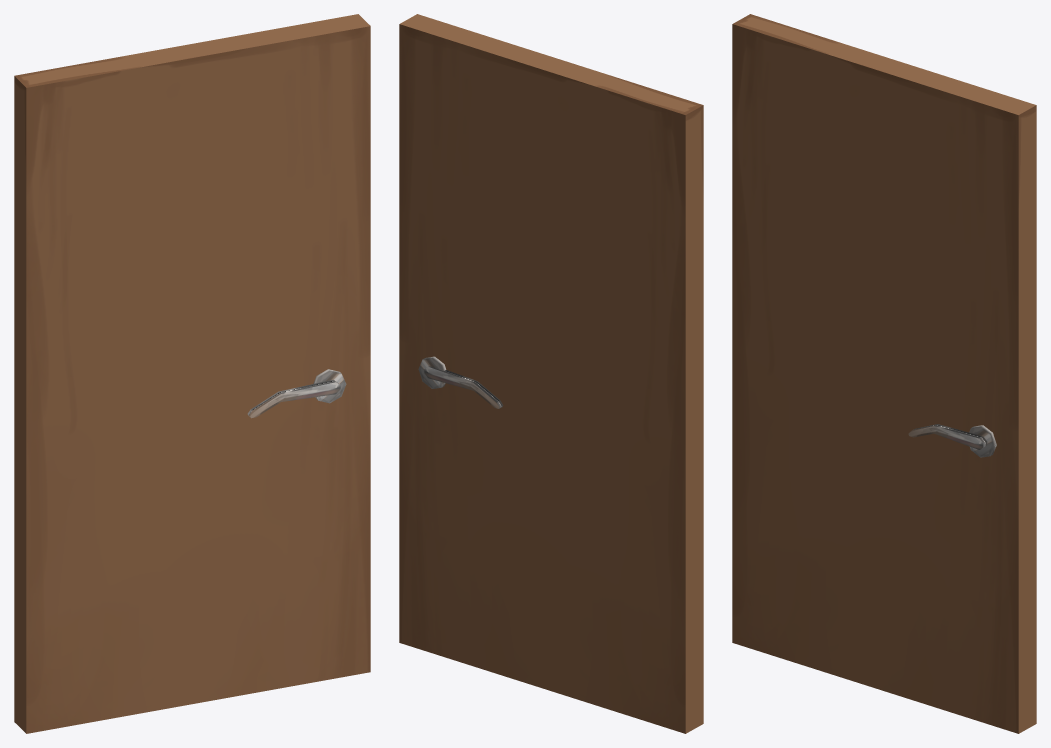
File: Door.fbx
The picture shows the model from 3 angles, left to right: view 1: azimuth 30°, elevation 25°; view 2: azimuth 150°, elevation 25°; view 3: azimuth 330°, elevation 25°; orthographic projection. The views are drawn at different scales.
Visible parts, largest first — view 1: Door; view 2: Door; view 3: Door.
Boxes of the visible parts, x1,y1,x2,y2 form: Door: (14, 14, 370, 733); Door: (399, 14, 703, 733); Door: (732, 14, 1036, 733).
Bounding box in the file's own units: 46.74 × 88.81 × 10.33.
1 material, 1 textured.
